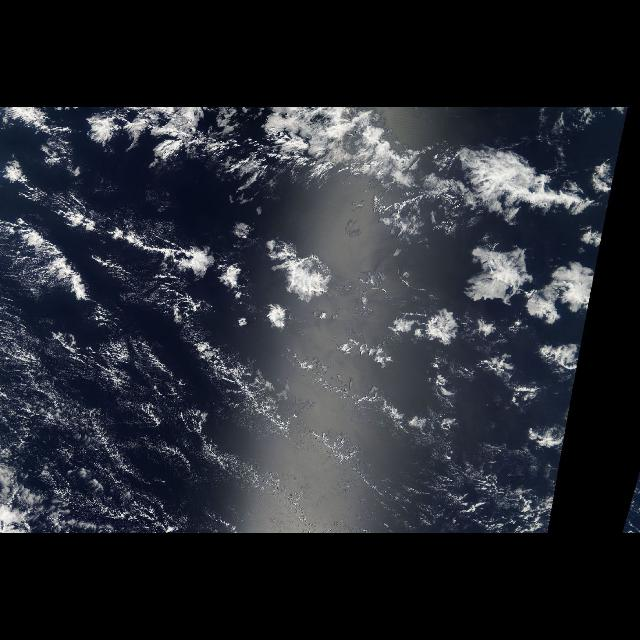Fish: (88, 107, 600, 227)
Flower: (179, 215, 607, 388)
Sugar: (3, 324, 354, 528)
